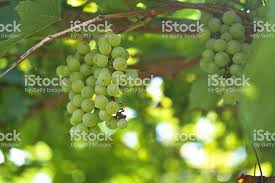grapes: (57, 33, 132, 147)
